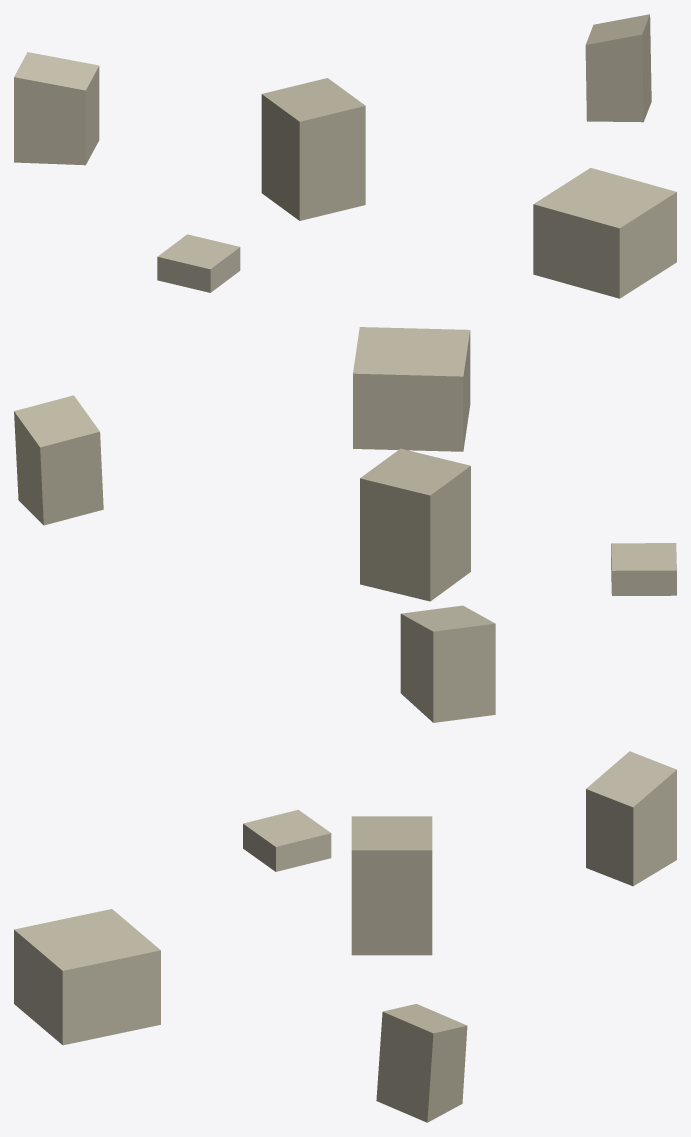
The model's file is Rocks_Square_s_01.fbx.
3 renders of one model, top to bottom at view 1: azimuth 30°, elevation 25°; view 2: azimuth 150°, elevation 25°; view 3: azimuth 270°, elevation 25°, orthographic. The views are drawn at different scales.
Parts seen in each view (by area): view 1: Rocks_Square_s_01; view 2: Rocks_Square_s_01; view 3: Rocks_Square_s_01.
Part boxes in pixels (x1,y1,x2,y2): Rocks_Square_s_01: (14, 14, 676, 298); Rocks_Square_s_01: (14, 327, 676, 722); Rocks_Square_s_01: (14, 751, 676, 1122).
Bounding box in the file's own units: 68.34 × 12.01 × 66.65.
